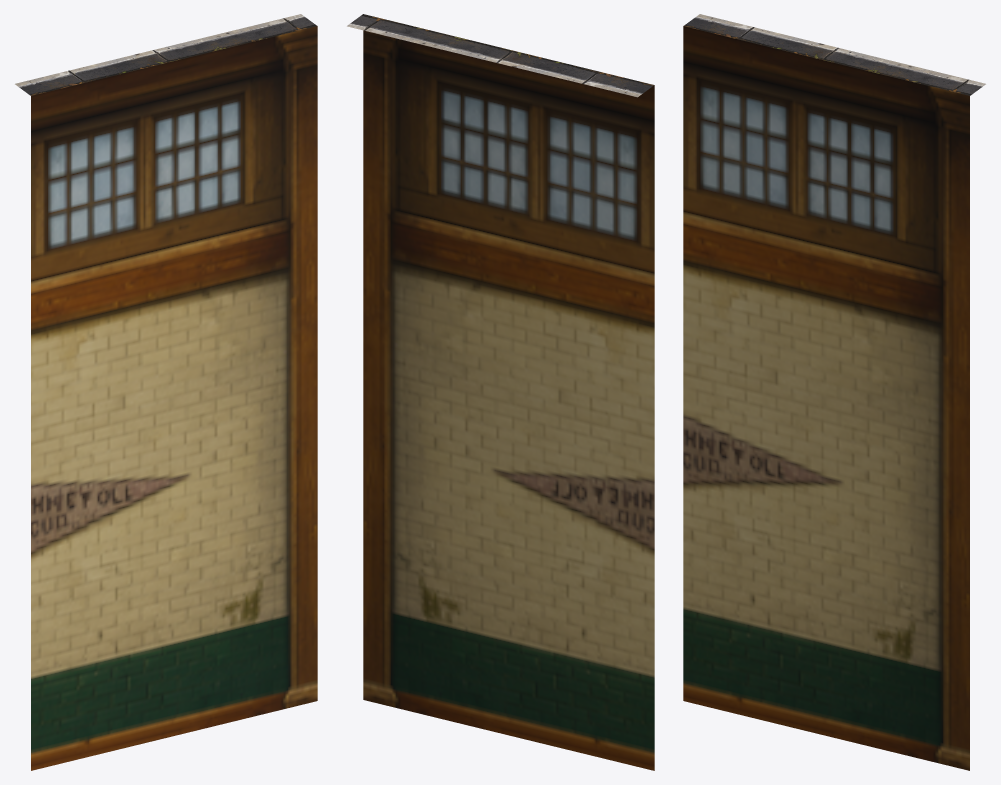
The model's file is IN_GYM_Wall4_B.fbx.
3 views of the same model, side by side, from view 1: azimuth 30°, elevation 25°; view 2: azimuth 150°, elevation 25°; view 3: azimuth 330°, elevation 25° (orthographic).
Parts seen in each view (by area): view 1: IN_GYM_Wall4_B; view 2: IN_GYM_Wall4_B; view 3: IN_GYM_Wall4_B.
Boxes of the visible parts, x1,y1,x2,y2 form: IN_GYM_Wall4_B: [15, 14, 317, 770]; IN_GYM_Wall4_B: [347, 14, 654, 770]; IN_GYM_Wall4_B: [683, 14, 985, 770].
Bounding box in the file's own units: 4 × 0.4 × 9.
Materials: 1 (1 with a texture image).
